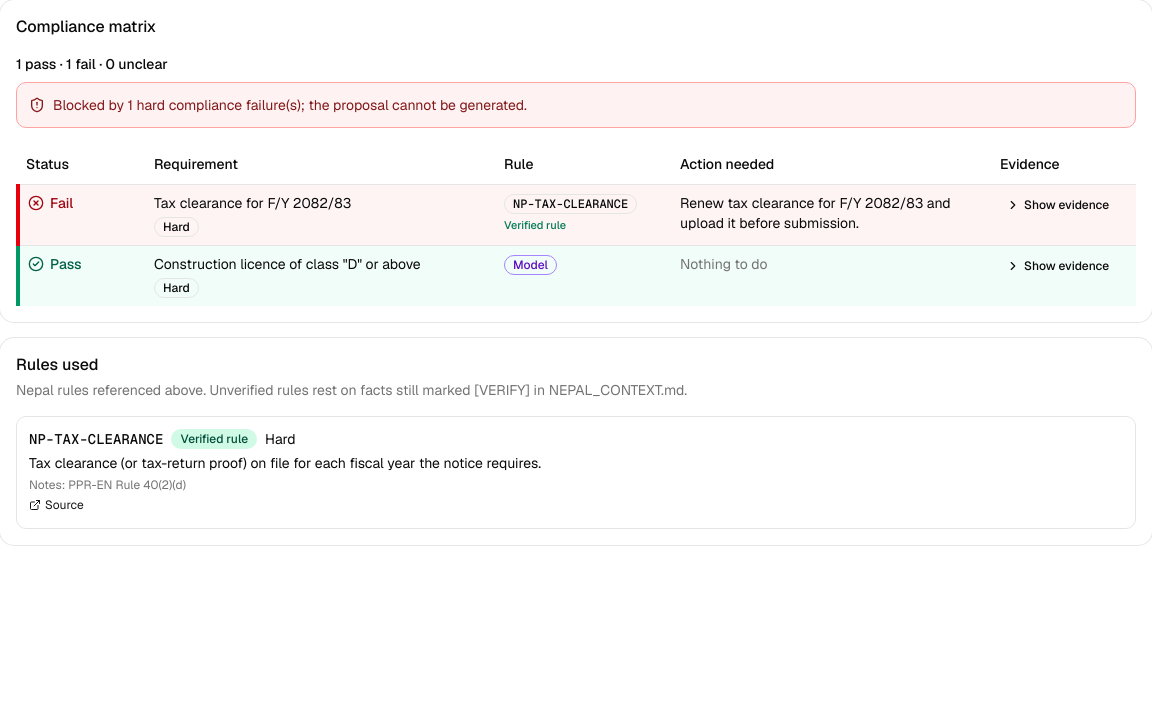
ComplianceMatrix › expands rows independently
The width and height of the screenshot is (1152, 720).
What coordinates should you click on to do the following:
click the button "Show evidence" in the row of "Model"
I would click on:
 (1058, 266)
Its box is [1000,254,1115,278].
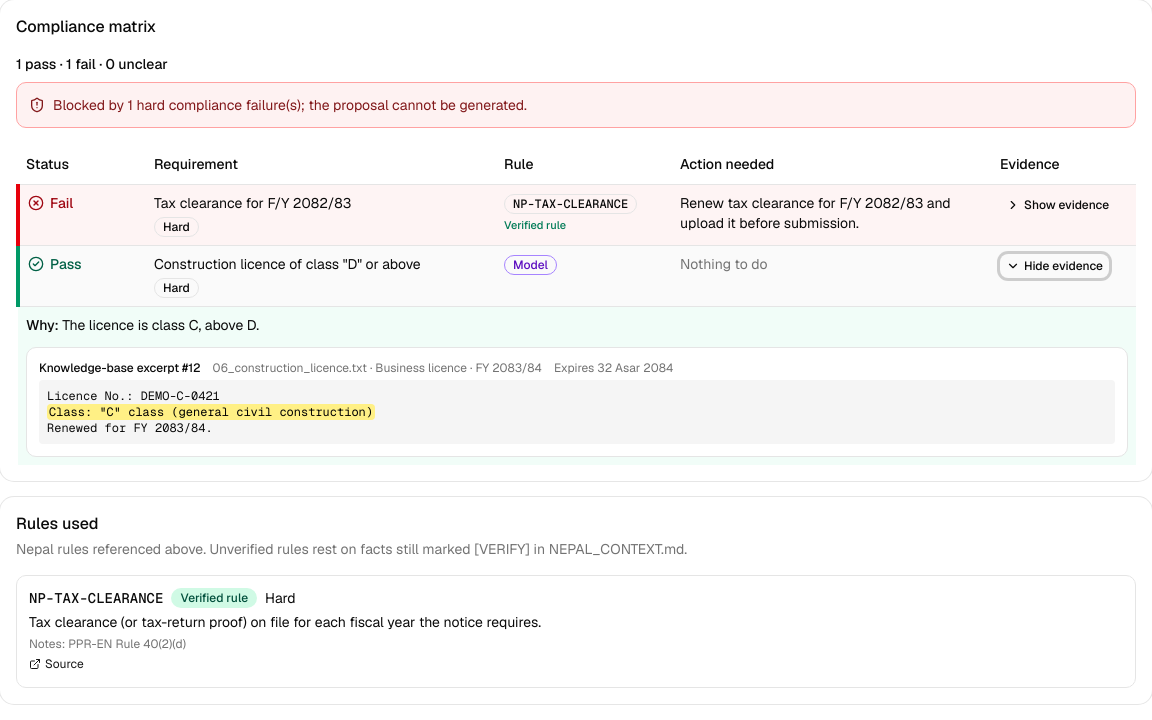
Now the element with test id "evidence-chunk" is shown, box [26,346,1128,456]
